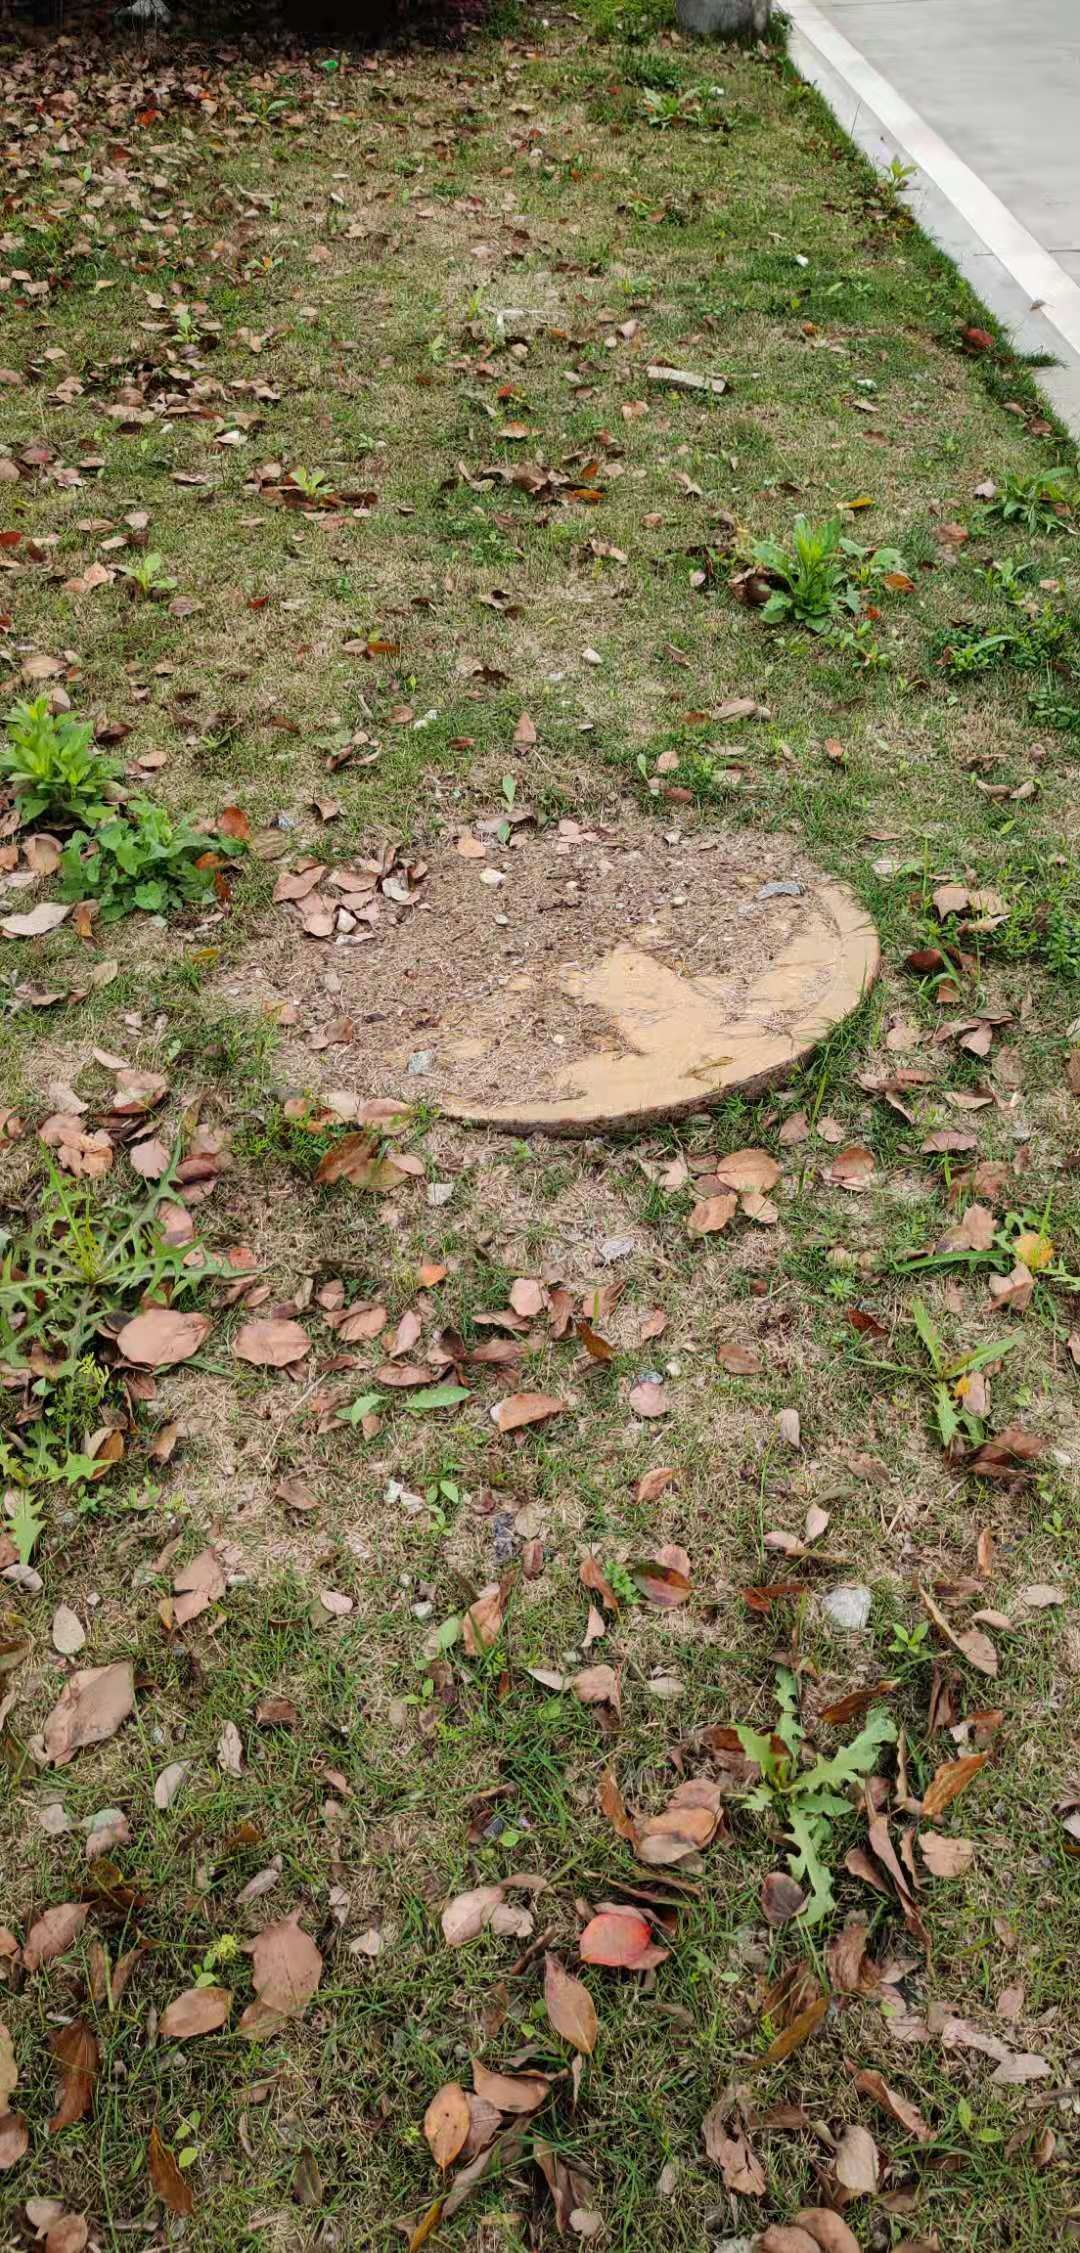uncovered: (248, 800, 872, 1135)
